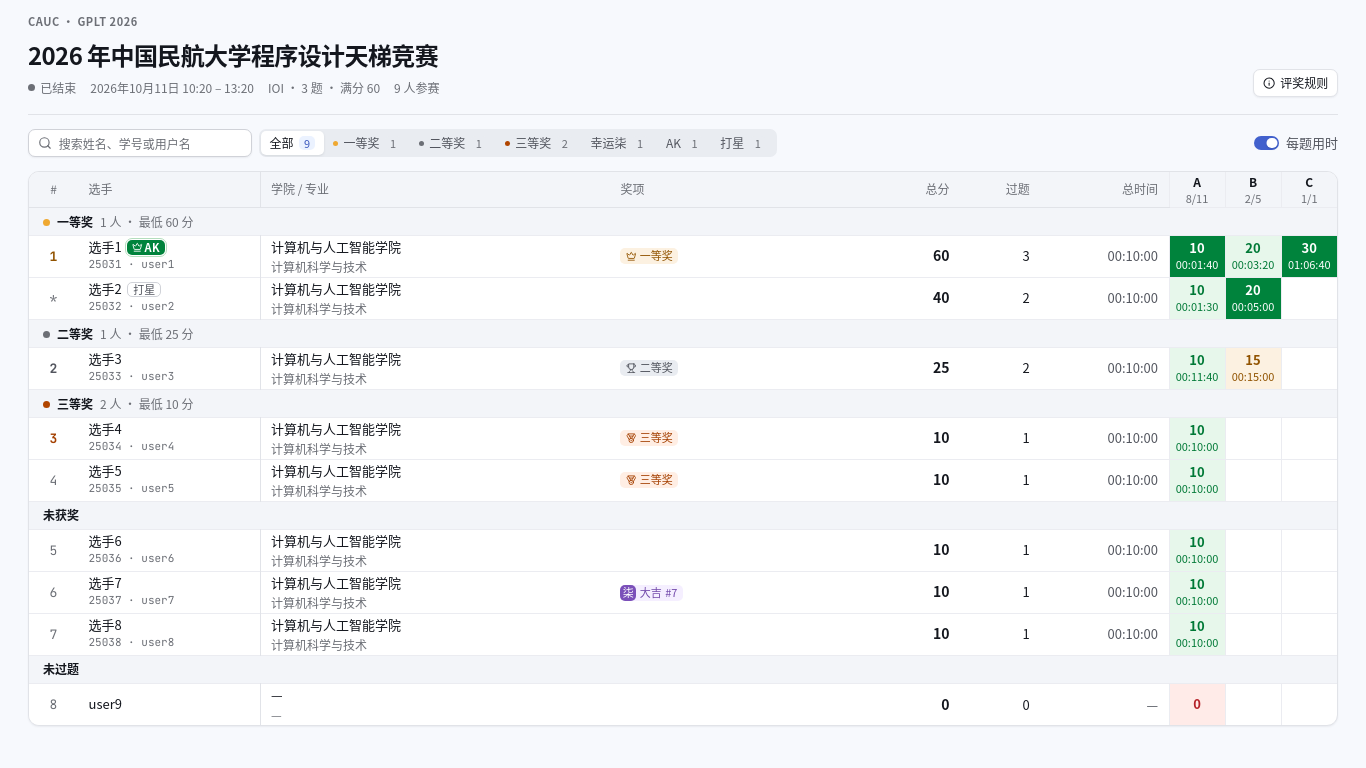
Test: public contest board page › opens the rules with the quotas worked out for this contest
Click the button "评奖规则" at (1296, 83), box [1253,69,1338,97]
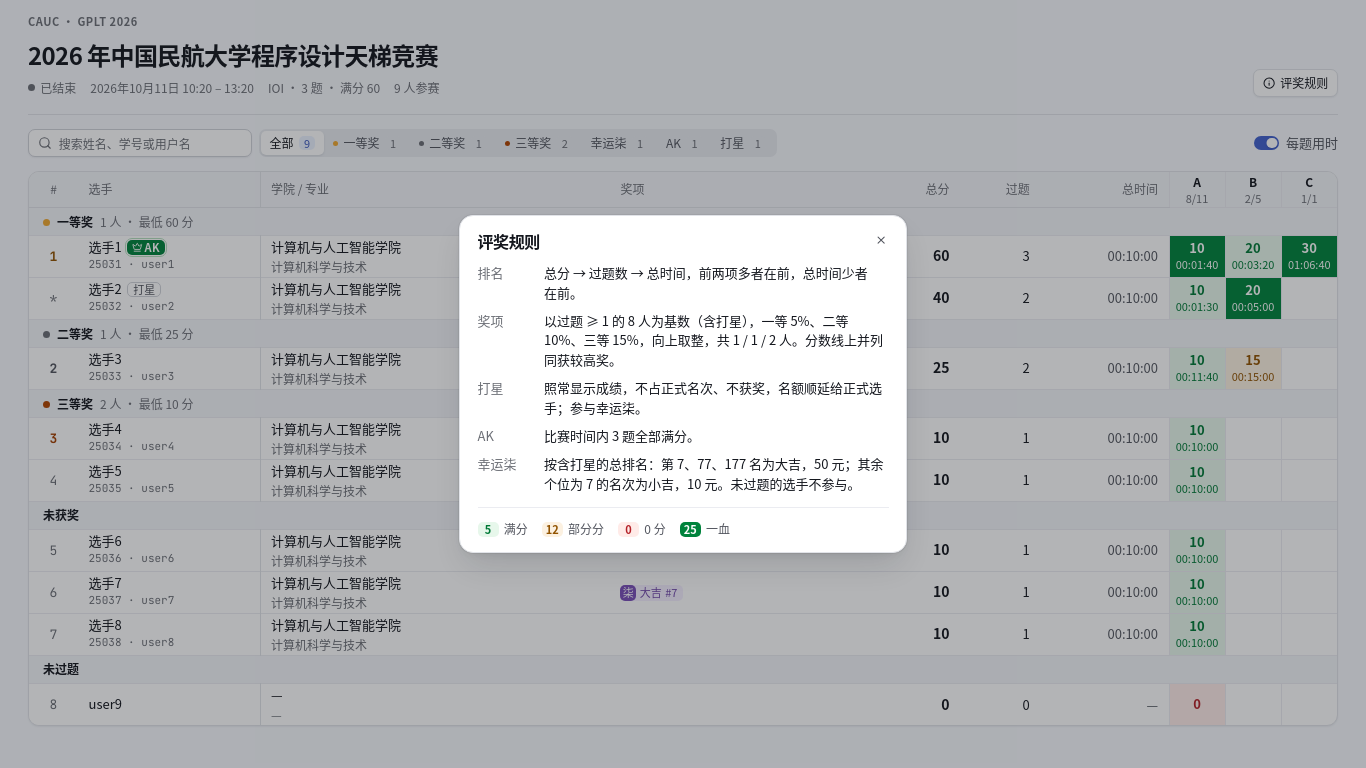
Expected: the dialog shows "以过题 ≥ 1 的 8 人为基数（含打星）", [544,311,883,369]
Expected: the dialog shows "共 1 / 1 / 2 人", [544,311,883,369]
Expected: the dialog shows "按含打星的总排名：第 7、77、177 名为大吉，50 元", [544,454,884,493]
